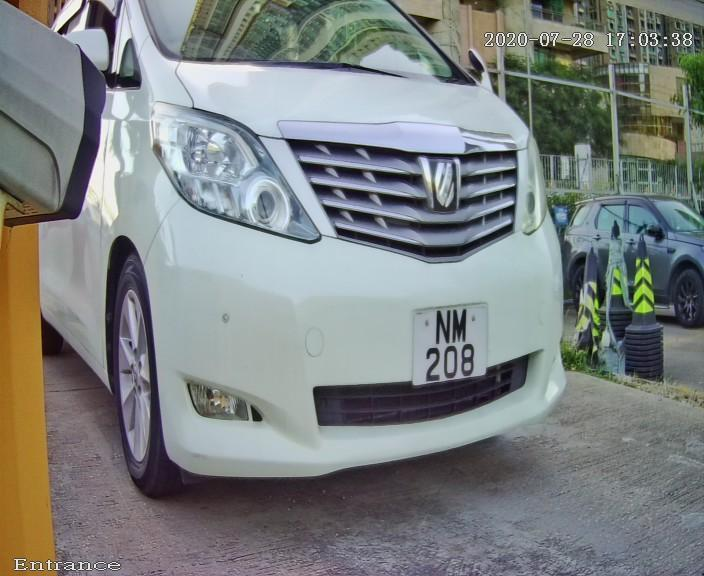privatecar: (23, 6, 654, 525)
